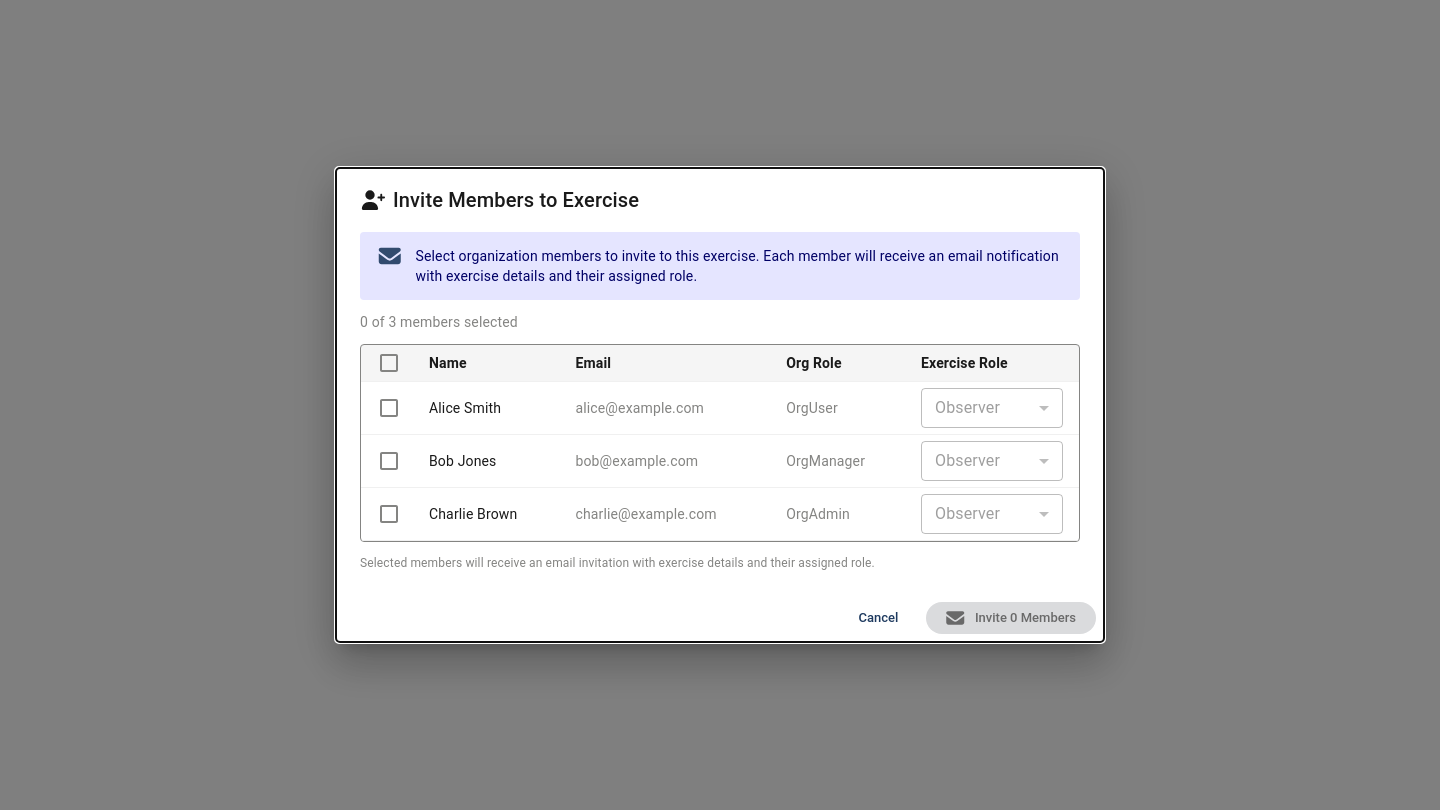
InviteMembersDialog › should allow selecting members and assigning exercise roles
Expected: the text "Alice Smith" is shown, top-left (429, 400), bottom-right (501, 416)
# Click on Alice's row to select her
Step 1. Click the text "Alice Smith" → (720, 408), box top-left (361, 381), bottom-right (1079, 434)
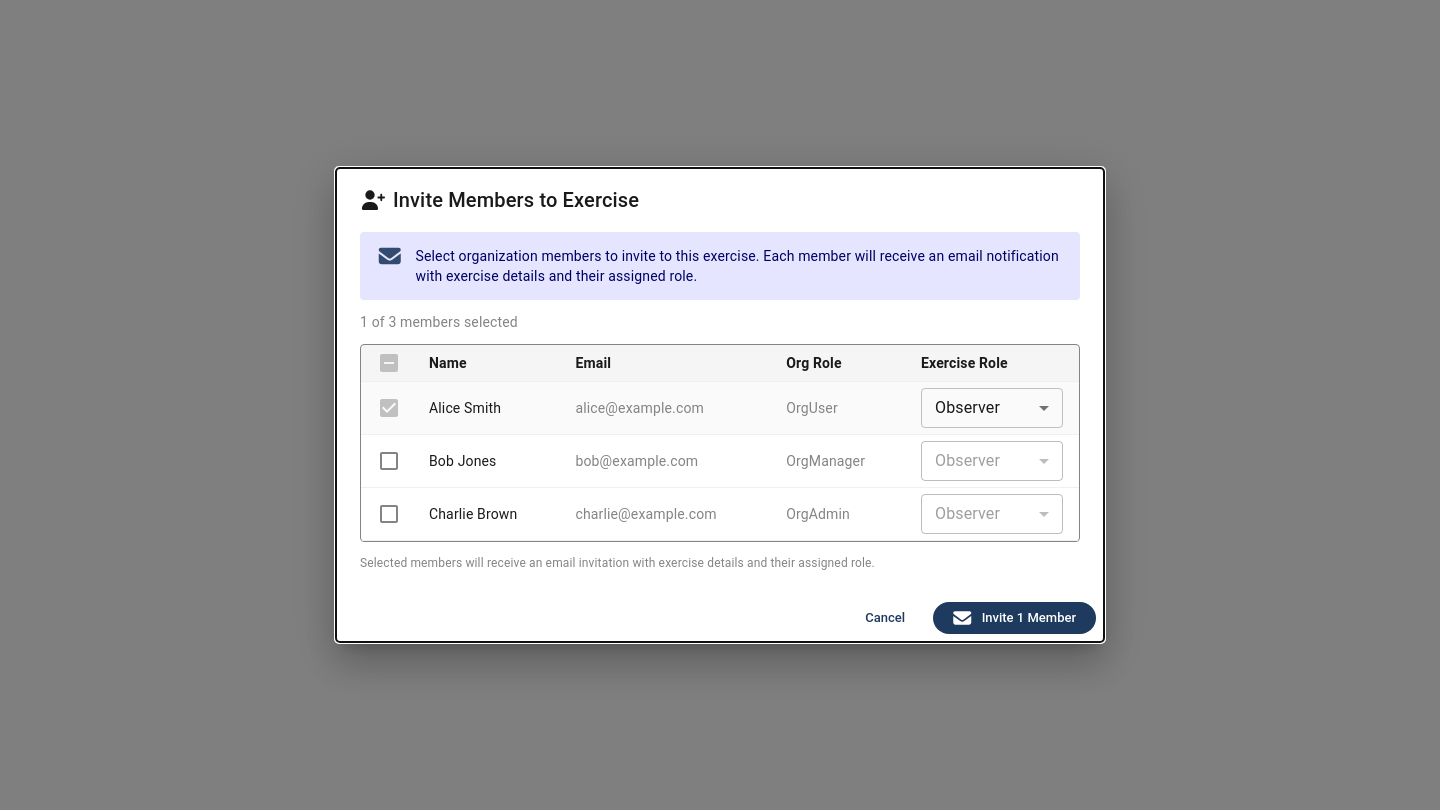
Expected: the checkbox named "Select Alice Smith" is checked, top-left (377, 396), bottom-right (401, 420)
# Change role to Controller via MUI Select
Step 2. Click the dropdown labelled "Observer" in the row of "Alice Smith" → (968, 408), box top-left (935, 398), bottom-right (1000, 417)
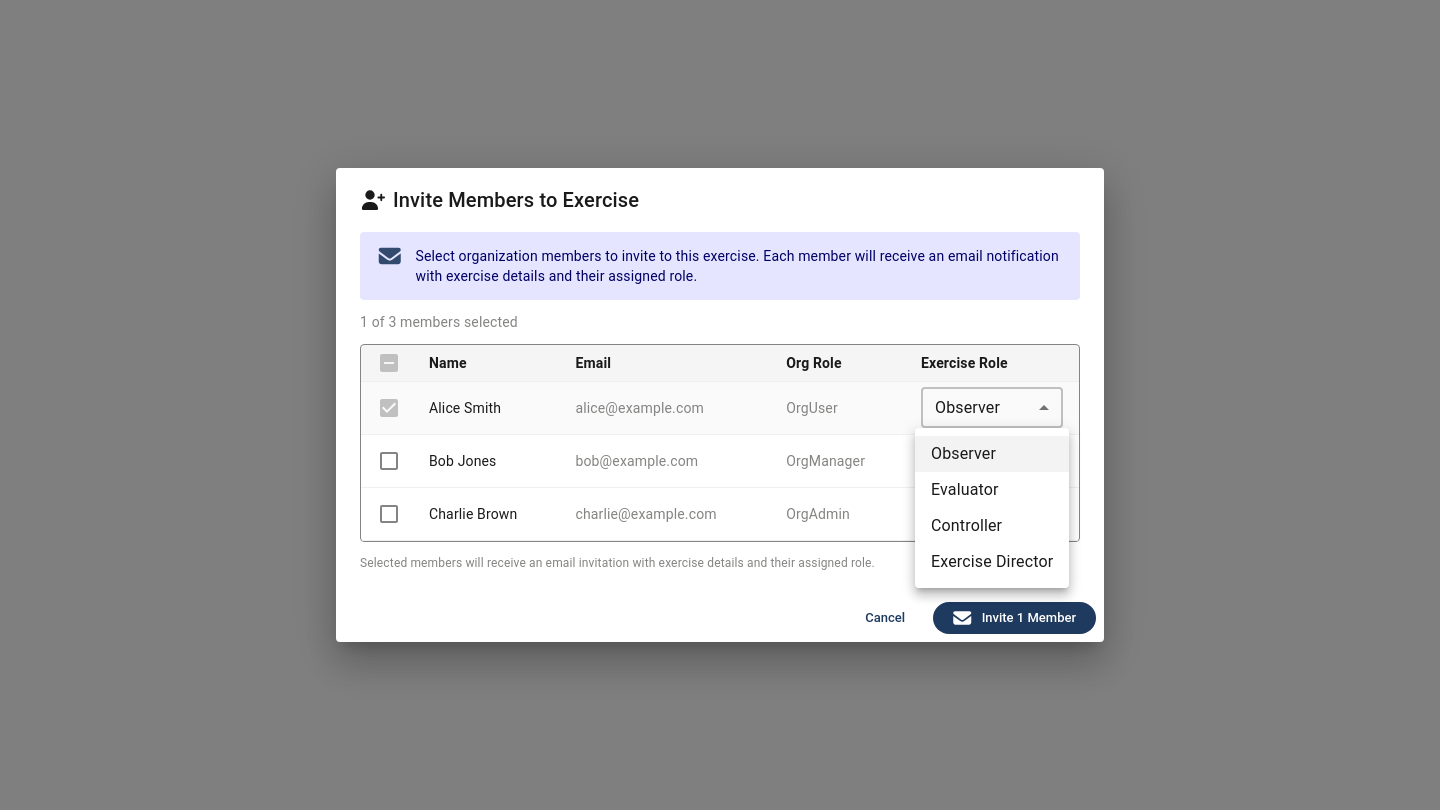
Step 3. Click the option "Controller" → (967, 526), box top-left (931, 516), bottom-right (1002, 535)
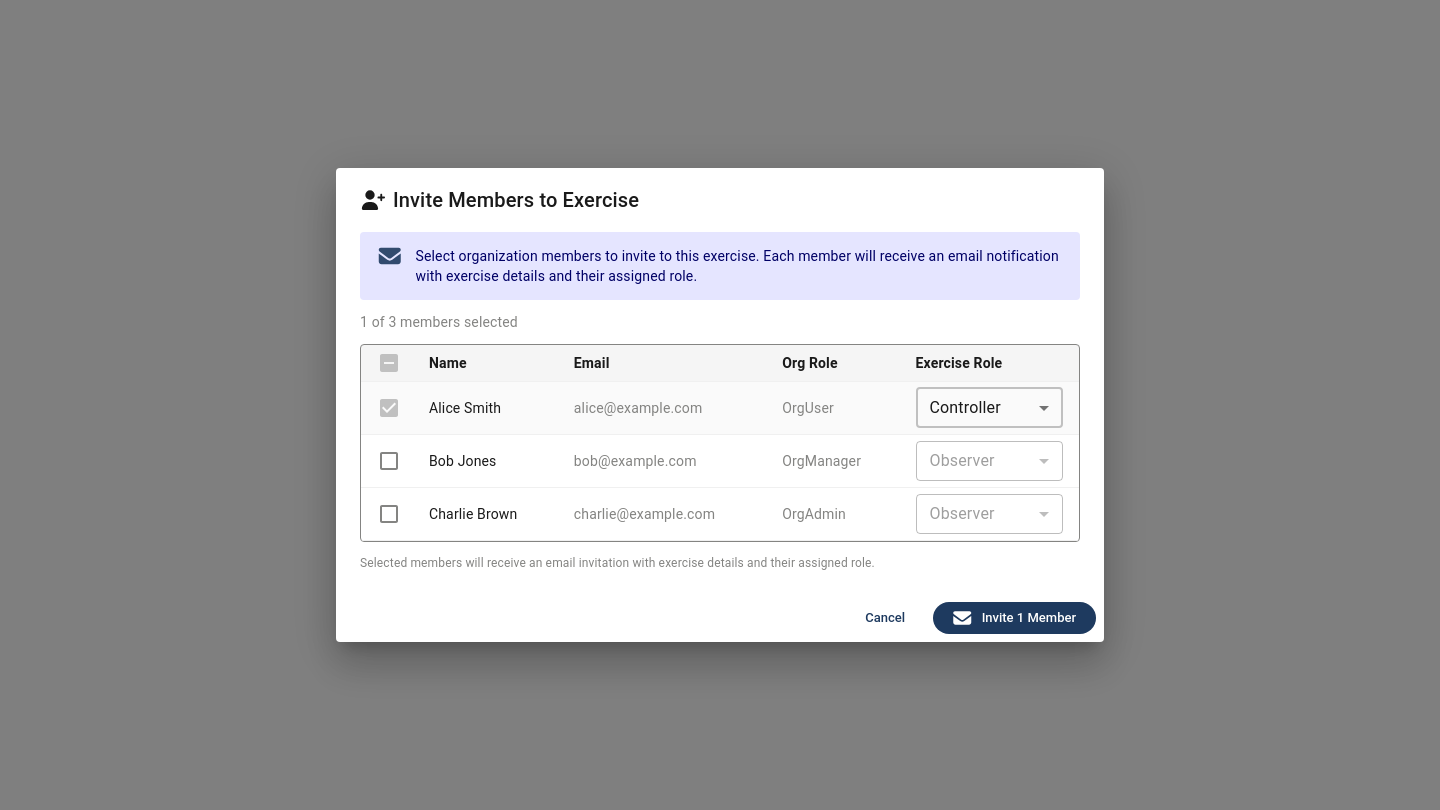
Expected: the dropdown labelled "Controller" is shown, top-left (930, 398), bottom-right (1001, 417)
